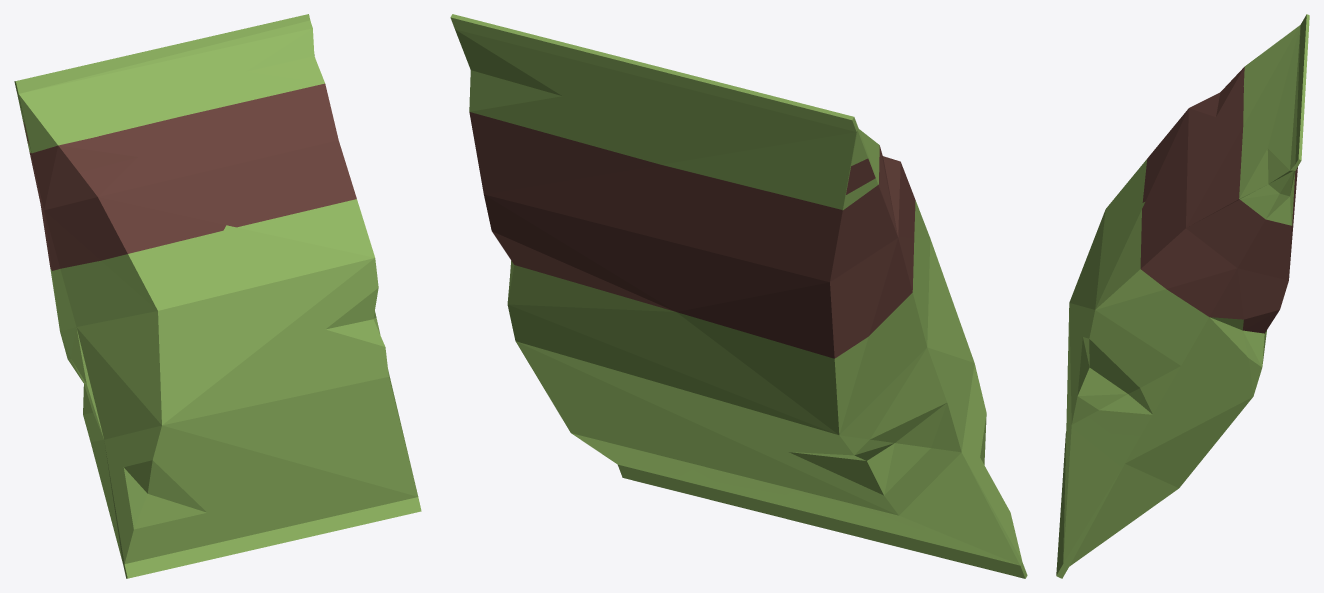
Rendered from chips2.fbx.
3 views of the same model, side by side, from view 1: azimuth 30°, elevation 25°; view 2: azimuth 150°, elevation 25°; view 3: azimuth 270°, elevation 25° (orthographic). The views are drawn at different scales.
Parts seen in each view (by area): view 1: group478861069; view 2: group478861069; view 3: group478861069.
Part boxes in pixels (box(x1,y1,x2,y2)): group478861069: box(14, 14, 421, 578); group478861069: box(450, 14, 1027, 578); group478861069: box(1056, 14, 1309, 578).
Bounding box in the file's own units: 262 × 350 × 190.
